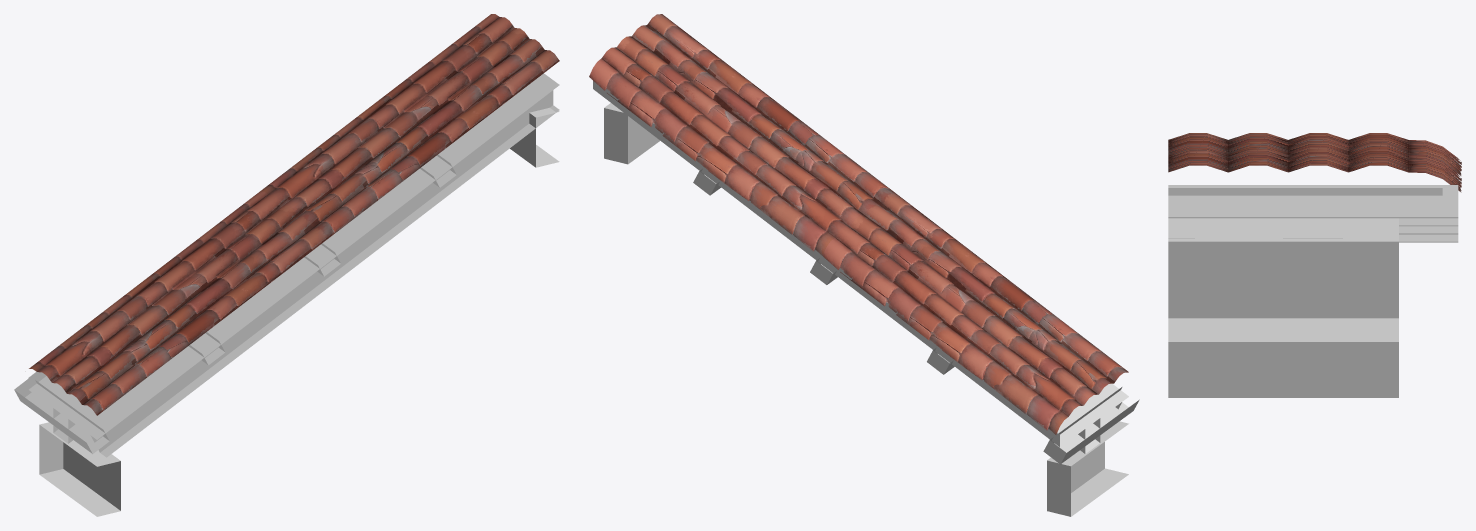
File: WallKit_Verge_Right_LOD0.fbx
3 views of the same model, side by side, from view 1: azimuth 30°, elevation 25°; view 2: azimuth 150°, elevation 25°; view 3: azimuth 270°, elevation 25° (orthographic). The views are drawn at different scales.
Visible parts, largest first — view 1: WallKit_Verge_Right_LOD0; view 2: WallKit_Verge_Right_LOD0; view 3: WallKit_Verge_Right_LOD0.
Part boxes in pixels (box(x1,y1,x2,y2)): WallKit_Verge_Right_LOD0: box(14, 14, 559, 516); WallKit_Verge_Right_LOD0: box(589, 14, 1139, 516); WallKit_Verge_Right_LOD0: box(1168, 133, 1461, 397).
Size of the model in its own units: 409 by 286 by 110.
